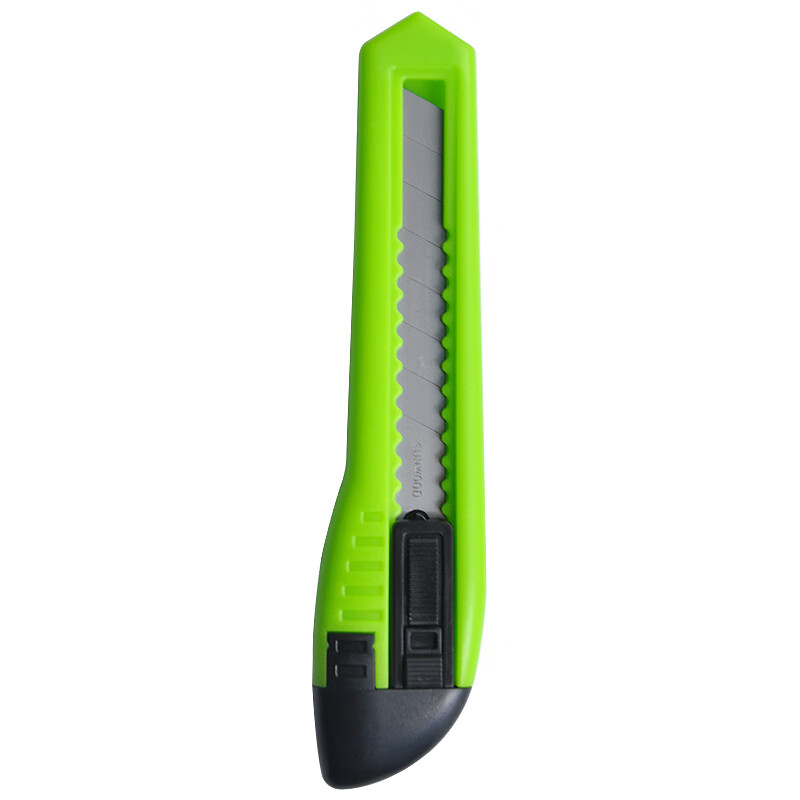cutter: (311, 11, 488, 793)
